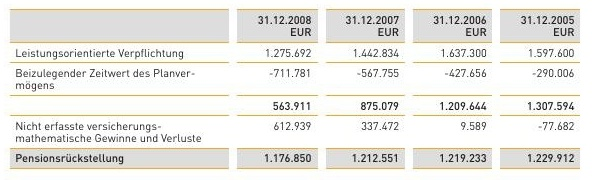table: (0, 0, 592, 180)
